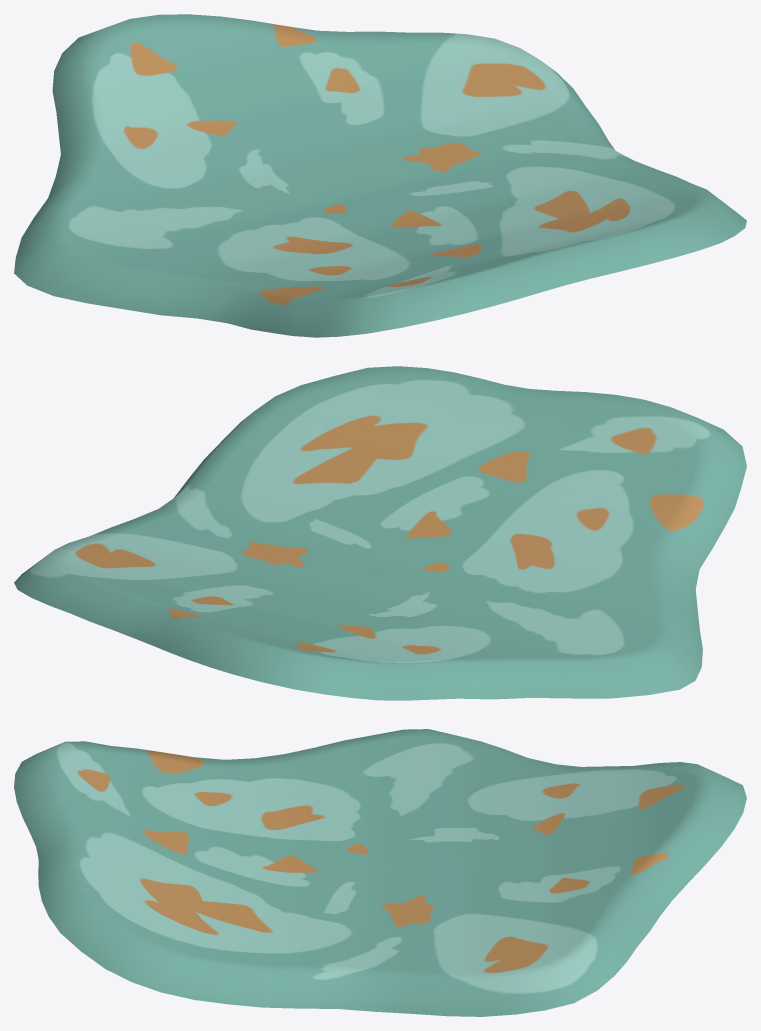
The model's file is Small Rusty Puddle.fbx.
The picture shows the model from 3 angles, top to bottom: view 1: azimuth 30°, elevation 25°; view 2: azimuth 150°, elevation 25°; view 3: azimuth 270°, elevation 25°; orthographic projection. The views are drawn at different scales.
Parts seen in each view (by area): view 1: Small; view 2: Small; view 3: Small.
Boxes of the visible parts, bbox=[...] form: Small: bbox=[14, 14, 746, 337]; Small: bbox=[14, 366, 746, 700]; Small: bbox=[14, 729, 746, 1016].
Size of the model in its own units: 17.23 by 2.36 by 18.92.
Materials: 1 (1 with a texture image).
